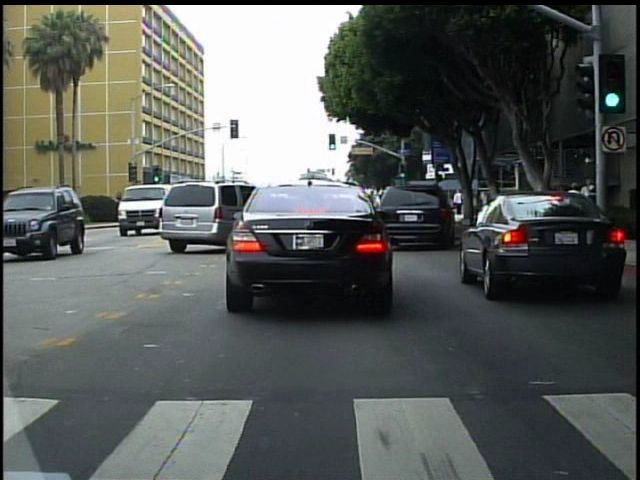person: (578, 173, 597, 233), (453, 186, 463, 216)
